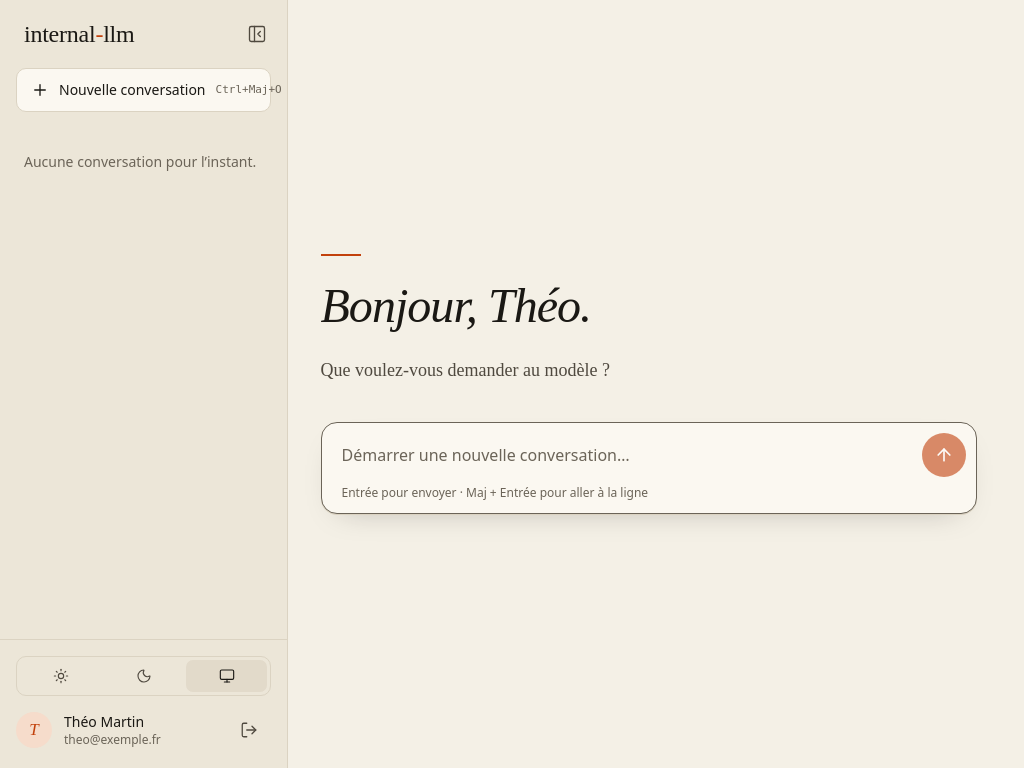
sending a message › keeps the draft when the conversation cannot be created
Expected: the heading "Bonjour, Théo." is shown, [320,279,591,332]
Type "Bonjour" into the text box named "Message".
click(628, 455); type("Bonjour")  # box [342,433,914,477]
Then press Enter
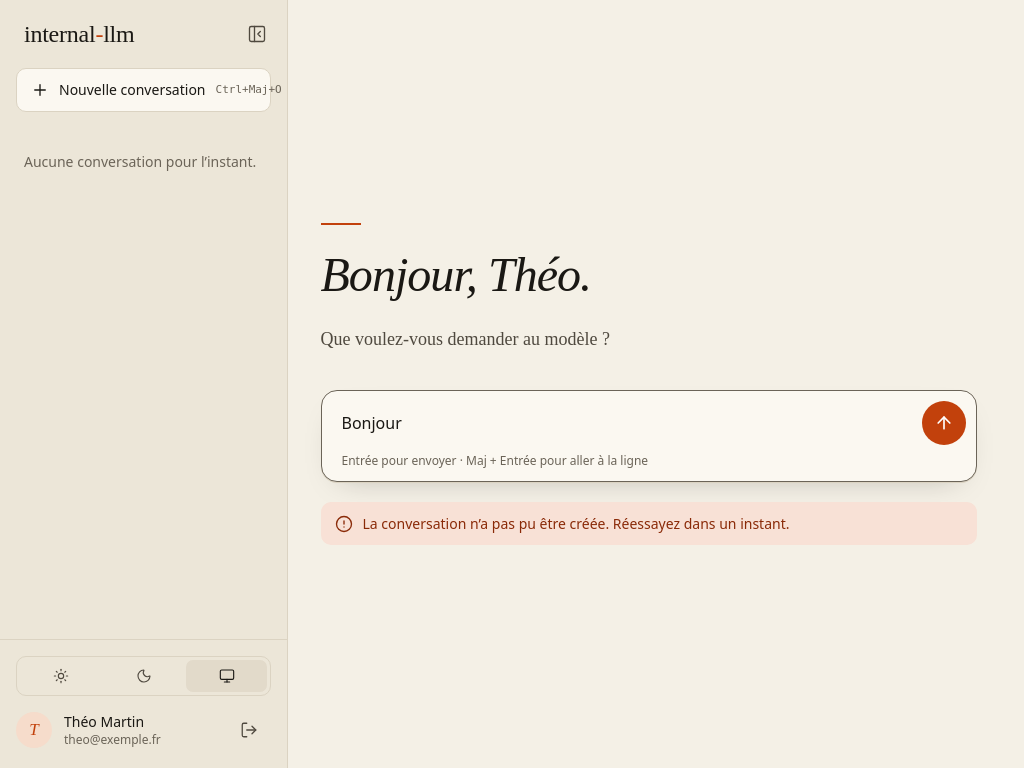
Result: the message shows "n’a pas pu être créée" at [362,514,790,533]
